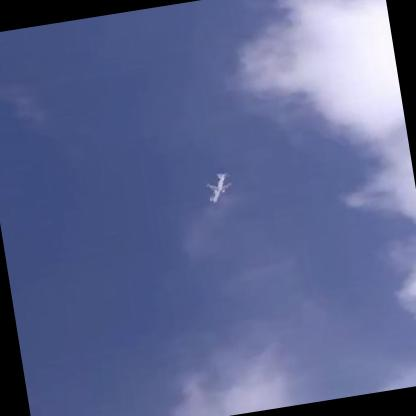plane: (204, 169, 236, 201)
